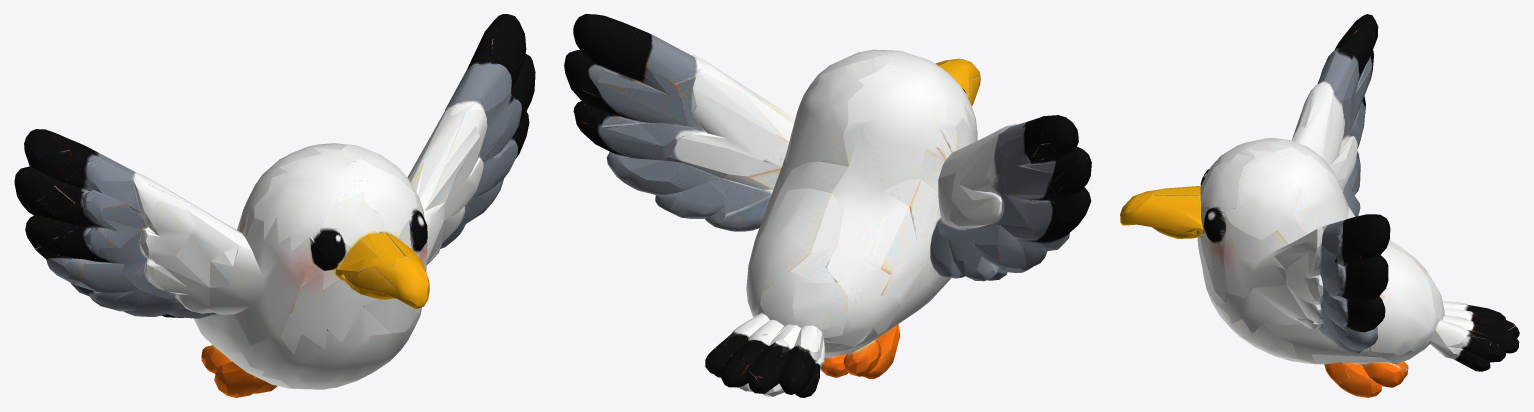
File: strand-maage-flyv.glb
The picture shows the model from 3 angles, left to right: view 1: azimuth 30°, elevation 25°; view 2: azimuth 150°, elevation 25°; view 3: azimuth 270°, elevation 25°; orthographic projection. The views are drawn at different scales.
Size of the model in its own units: 1.9 by 1.08 by 1.47.
Materials: 1 (1 with a texture image).
